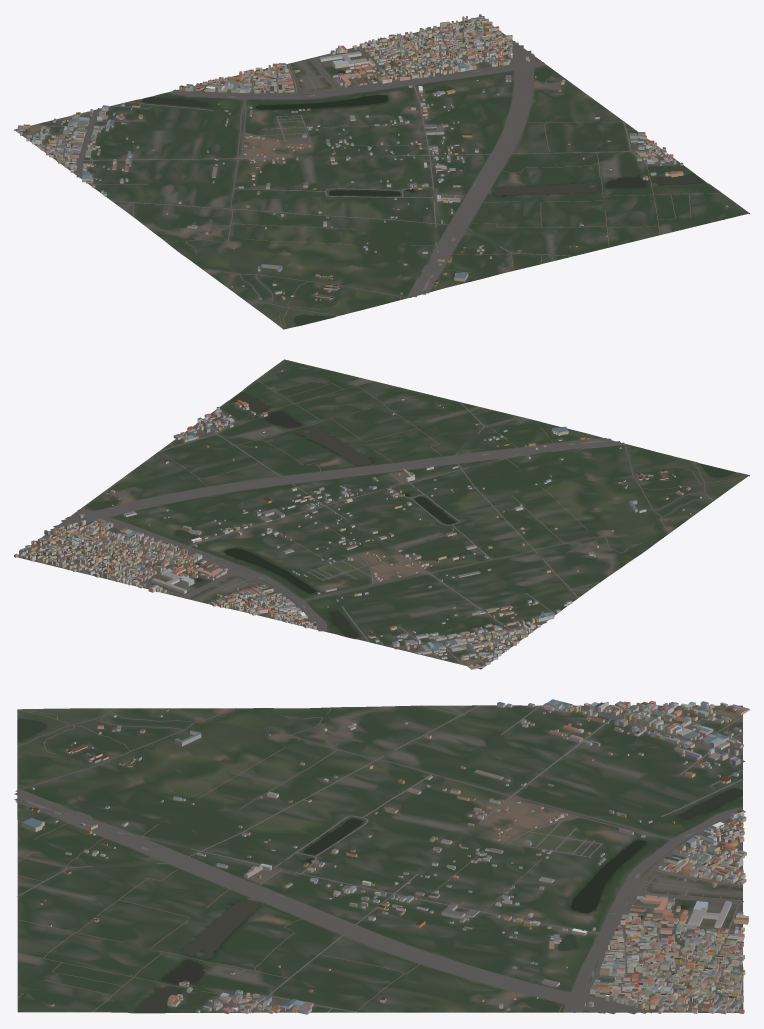
3 views of the same model, one above another, from view 1: azimuth 30°, elevation 25°; view 2: azimuth 150°, elevation 25°; view 3: azimuth 270°, elevation 25° (orthographic). The views are drawn at different scales.
Parts seen in each view (by area): view 1: ground, buildings, roads, water; view 2: ground, buildings, roads, water; view 3: ground, buildings, roads, water.
Part boxes in pixels (x1,y1,x2,y2): ground: (14, 17, 749, 329); buildings: (17, 14, 728, 300); roads: (18, 17, 728, 329); water: (142, 71, 705, 325); ground: (17, 359, 749, 669); buildings: (14, 369, 701, 669); roads: (18, 364, 747, 666); water: (175, 391, 735, 638); ground: (17, 705, 743, 1013); buildings: (21, 699, 749, 1014); roads: (14, 705, 745, 1014); water: (18, 718, 742, 1012).
Bounding box in the file's own units: 1418 × 24.02 × 1422.
